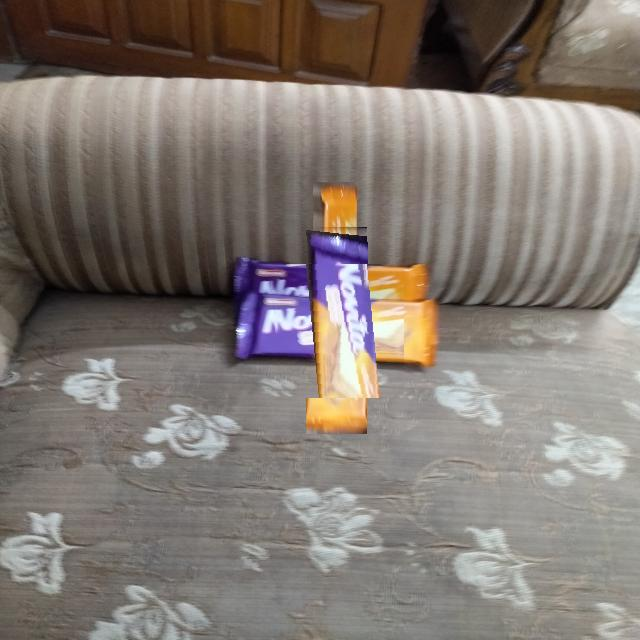Plastic: (269, 264, 404, 398), (276, 219, 395, 337)
